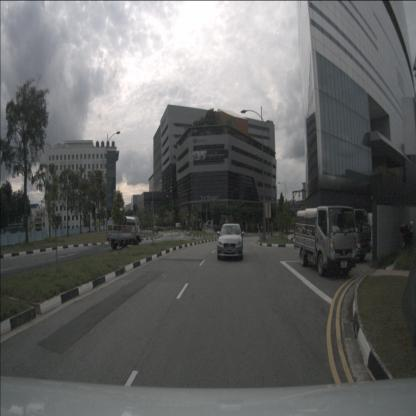vehicle-car: (217, 223, 243, 260), (284, 228, 293, 236), (175, 222, 183, 230)
vehicle-motorcycle: (400, 223, 414, 255)
vehicle-truck: (294, 206, 357, 277), (305, 208, 372, 264), (106, 215, 142, 250)
